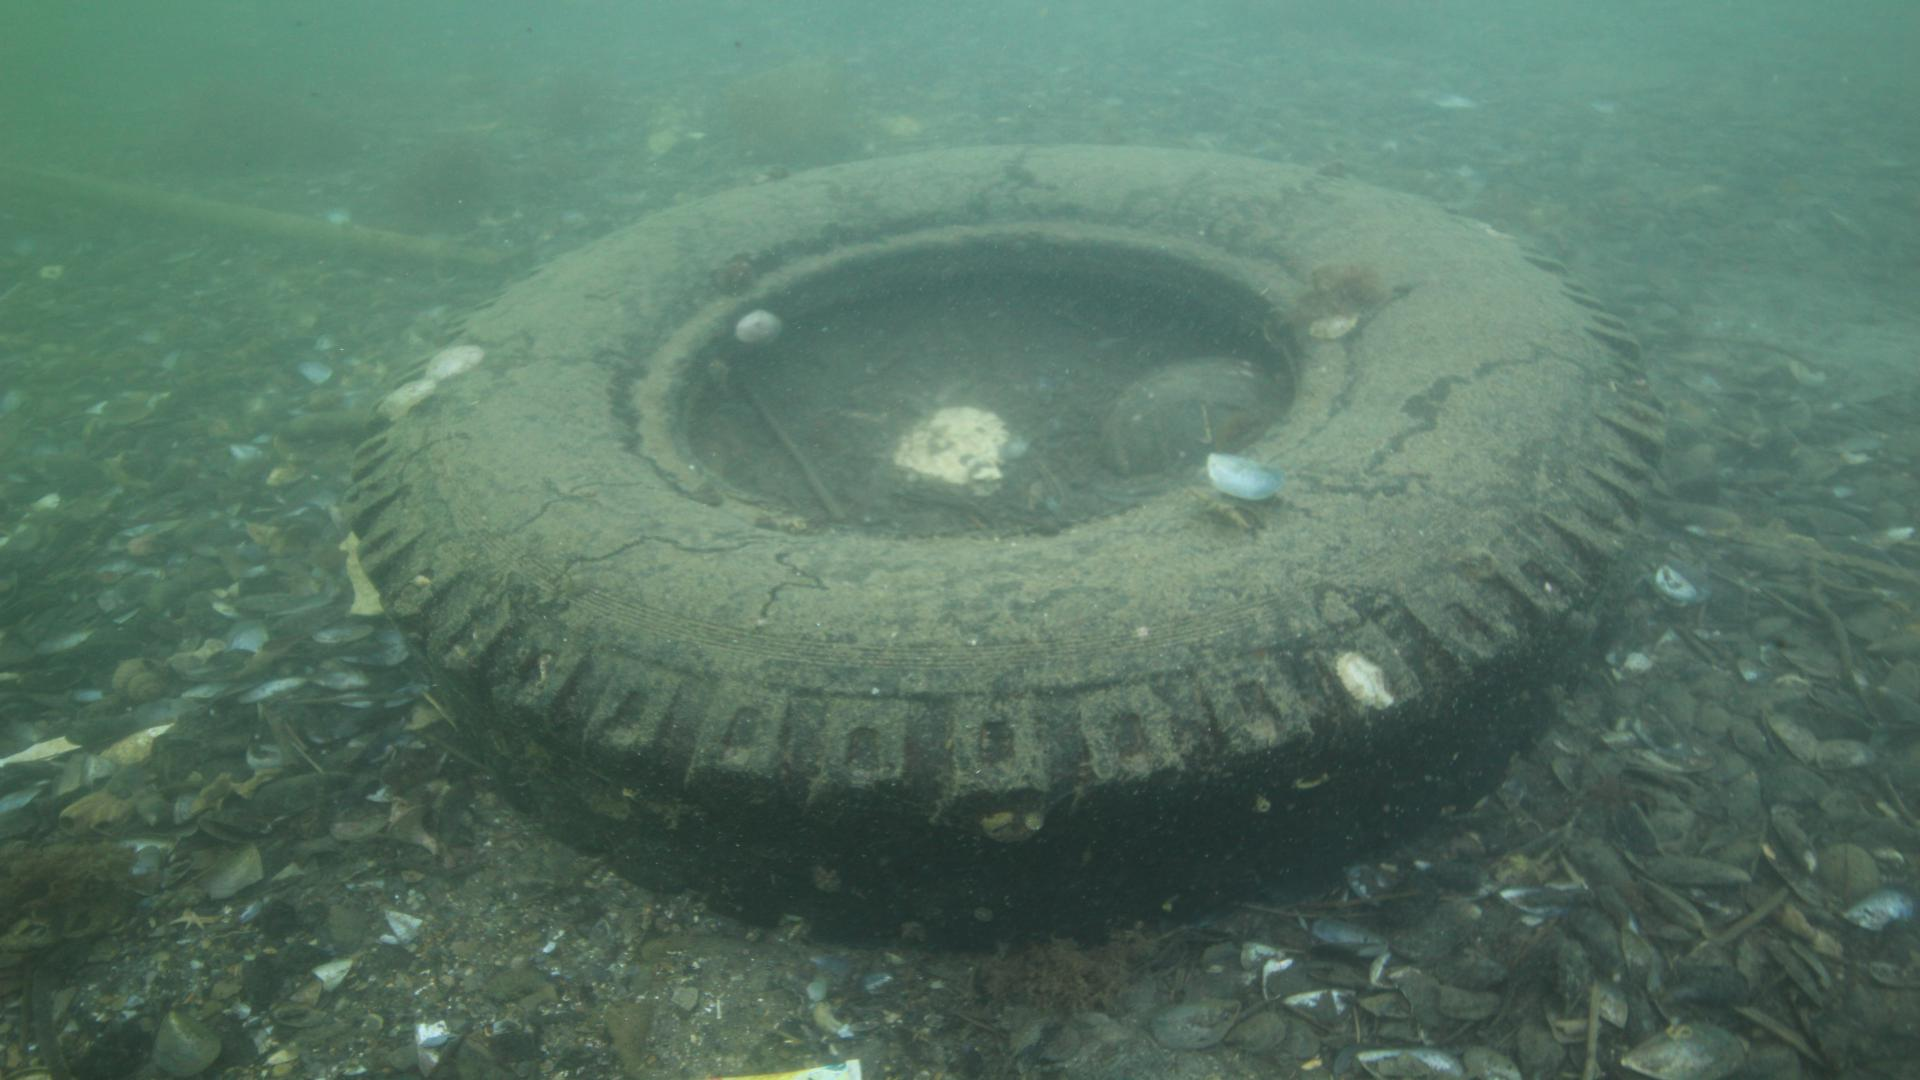tire: (345, 142, 1665, 949)
